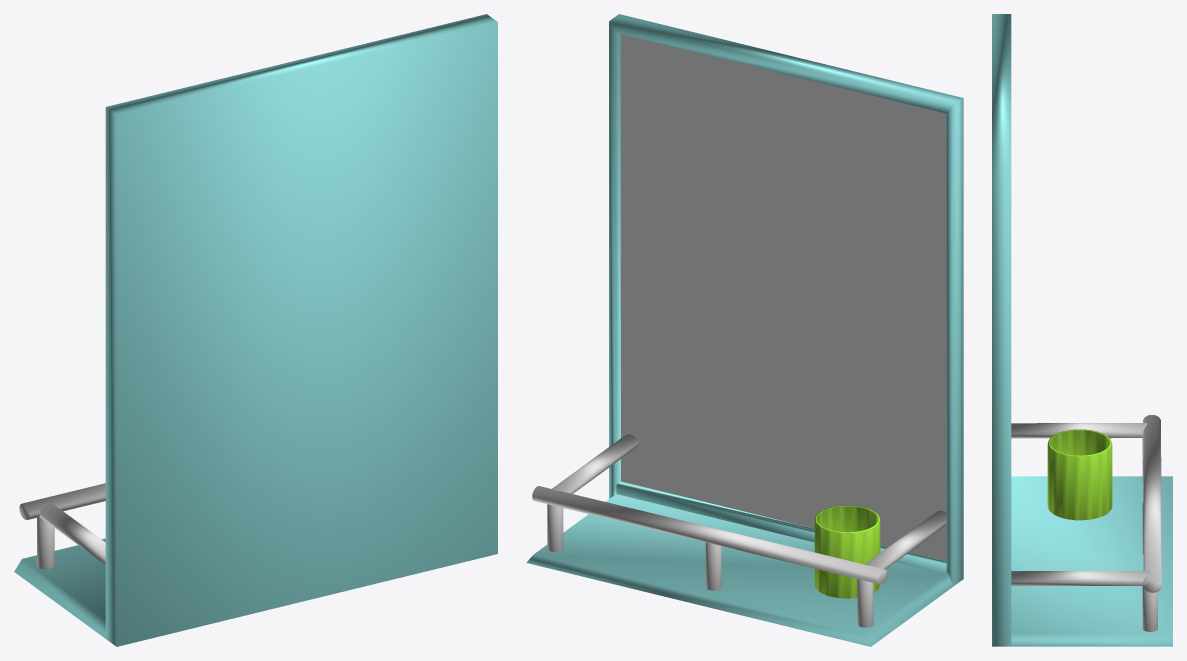
The model's file is mirror.glb.
3 views of the same model, side by side, from view 1: azimuth 30°, elevation 25°; view 2: azimuth 150°, elevation 25°; view 3: azimuth 270°, elevation 25° (orthographic). The views are drawn at different scales.
Visible parts, largest first — view 1: Cylinder.004; view 2: Cylinder.004; view 3: Cylinder.004.
Part boxes in pixels (<box>): Cylinder.004: <box>14,14,497,646</box>; Cylinder.004: <box>526,14,963,646</box>; Cylinder.004: <box>992,14,1172,646</box>.
Bounding box in the file's own units: 0.4589 × 0.61 × 0.2133.
